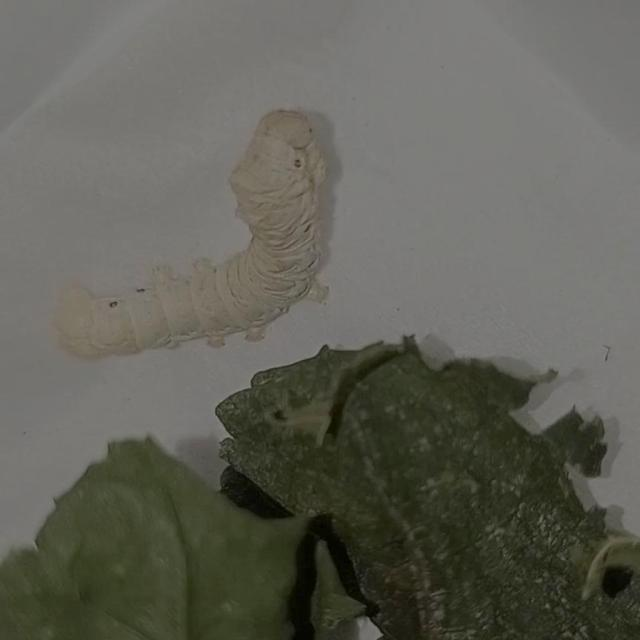Healthy: (39, 80, 389, 376)
